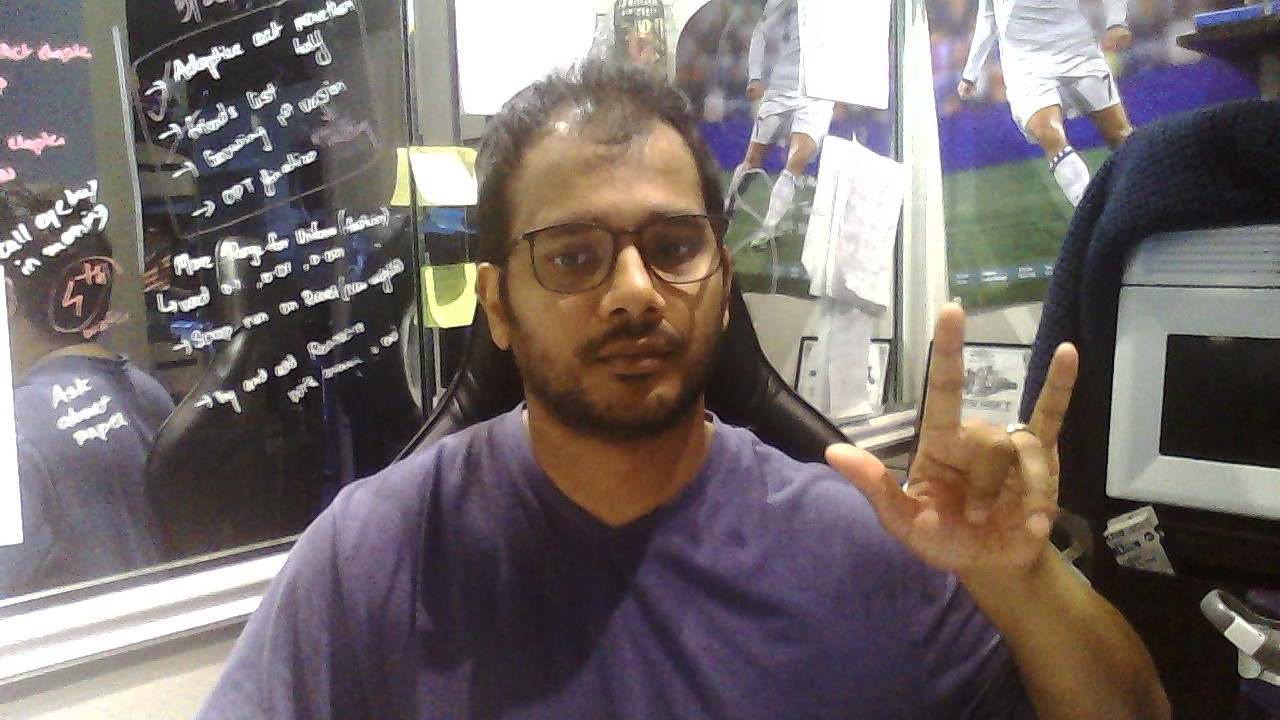ILoveYou: (825, 302, 1079, 574)
